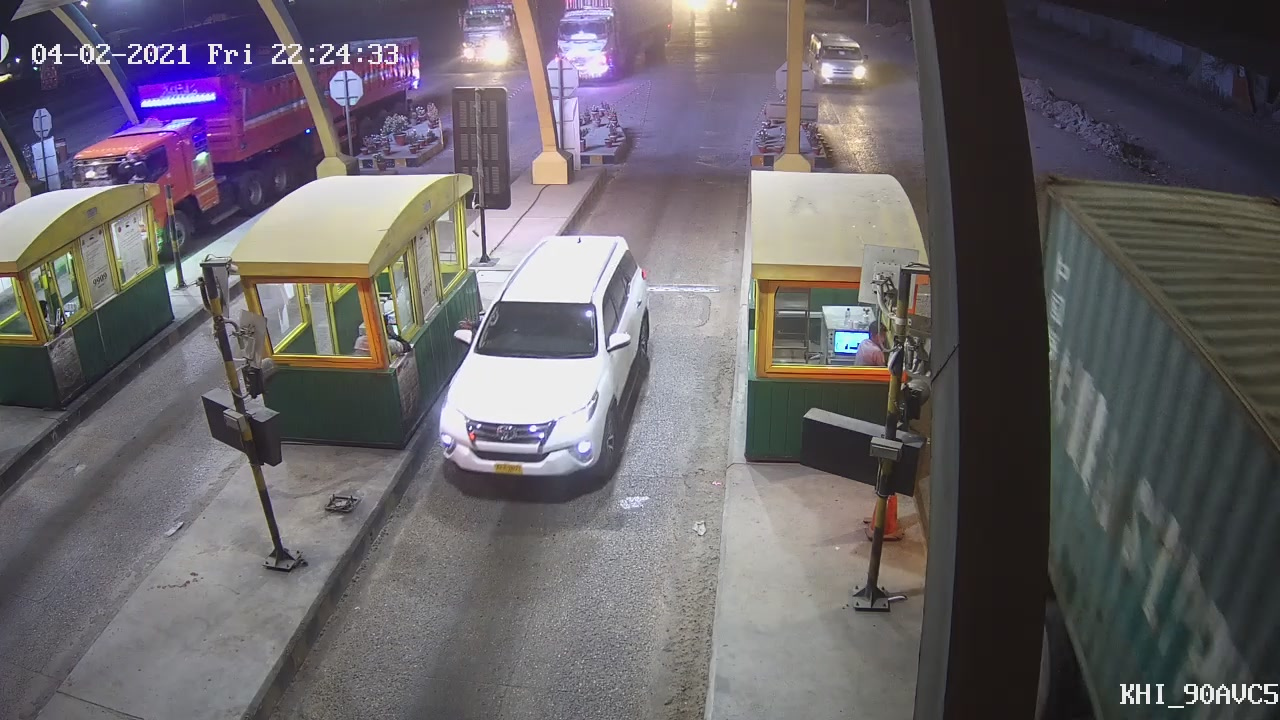F1: (431, 227, 655, 487)
